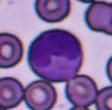M: (28, 28, 84, 81)
